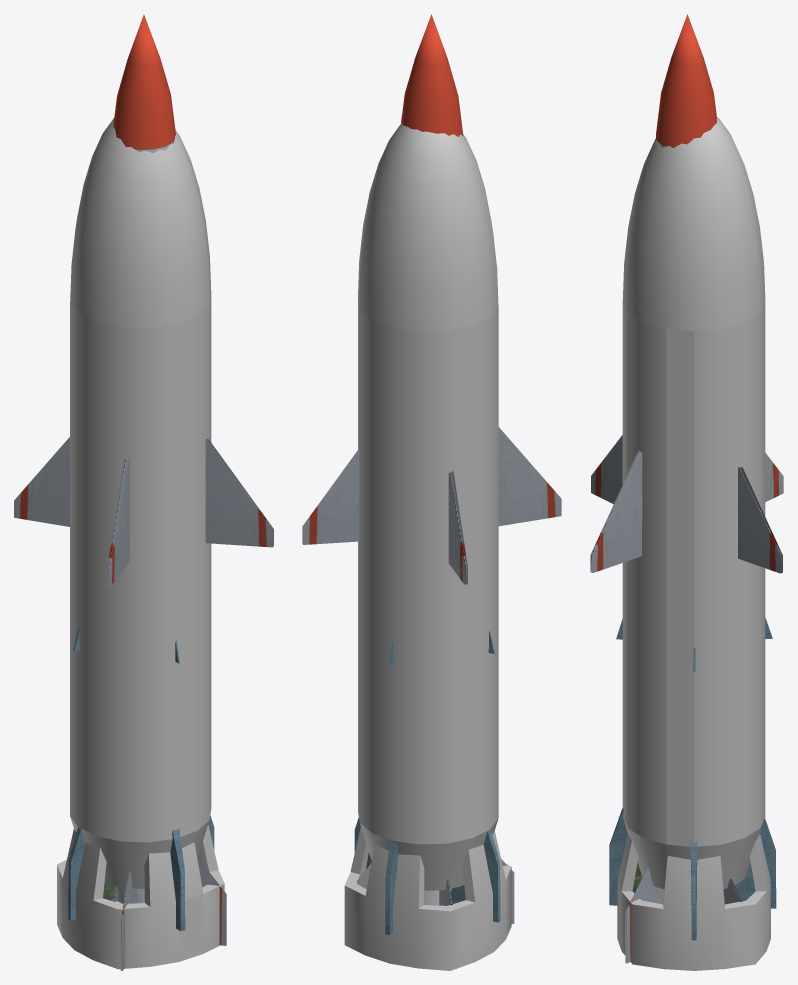
Rendered from Rockets.fbx.
3 views of the same model, side by side, from view 1: azimuth 30°, elevation 25°; view 2: azimuth 150°, elevation 25°; view 3: azimuth 270°, elevation 25° (orthographic).
Parts seen in each view (by area): view 1: Torped, Rocket_3, Rocket_2; view 2: Torped, Rocket_3, Rocket_2; view 3: Torped, Rocket_3, Rocket_2.
Boxes of the visible parts, box(x1,y1,x2,y2) form: Torped: box(57, 118, 224, 969); Rocket_3: box(14, 14, 273, 970); Rocket_2: box(68, 628, 214, 931); Torped: box(344, 123, 511, 970); Rocket_3: box(302, 14, 561, 923); Rocket_2: box(354, 631, 500, 935); Torped: box(617, 117, 770, 970); Rocket_3: box(590, 14, 783, 963); Rocket_2: box(609, 618, 776, 940).
Size of the model in its own units: 14.1 by 75.54 by 14.1.
